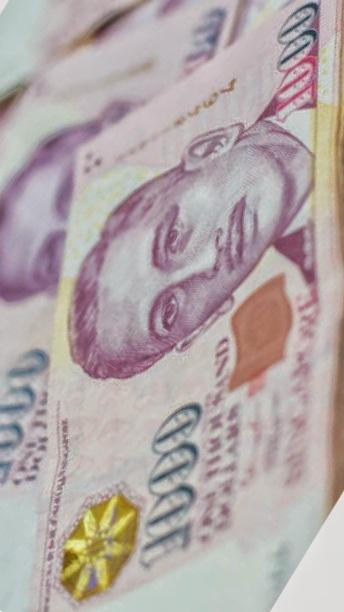1000SingaporeDollar: (40, 0, 329, 612)
